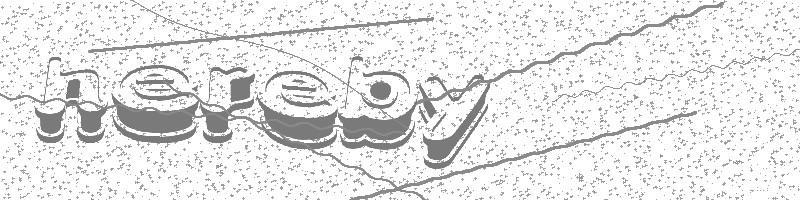b: (339, 55, 419, 149), (417, 74, 494, 169)
e: (110, 61, 201, 143), (259, 65, 340, 150)
h: (35, 53, 111, 143)
r: (202, 63, 257, 144)
